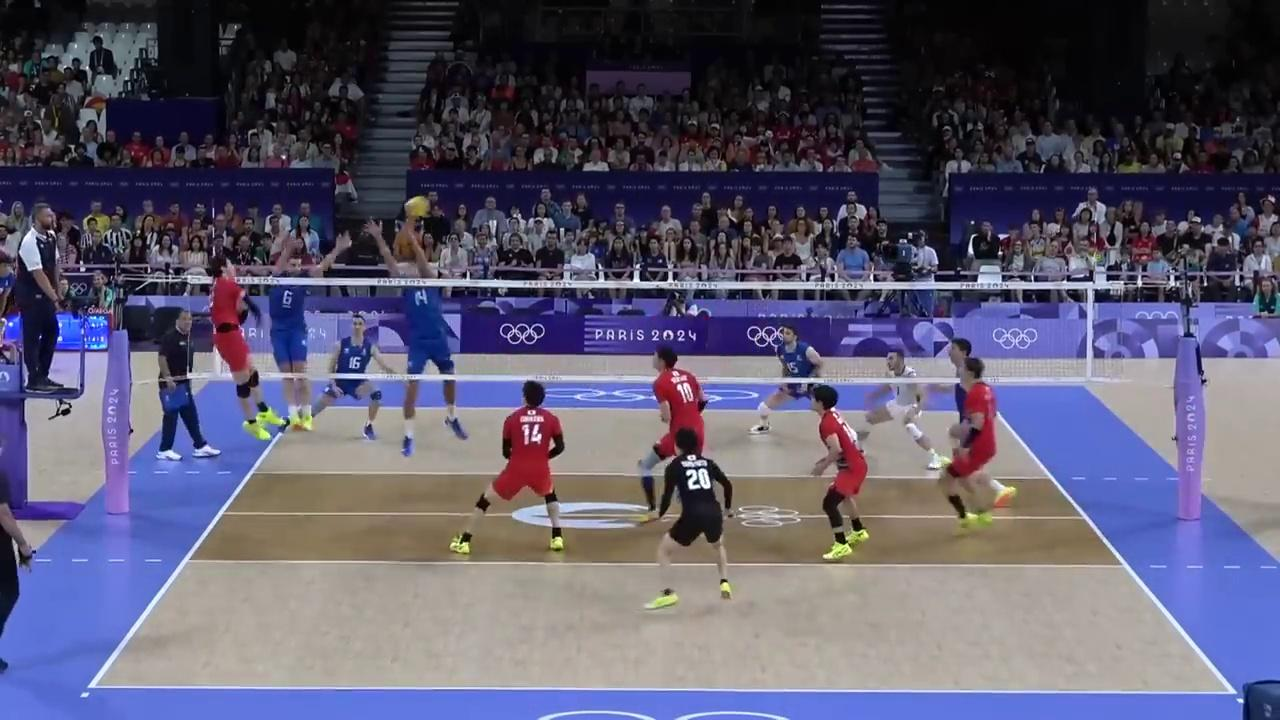ball: (405, 199, 428, 217)
